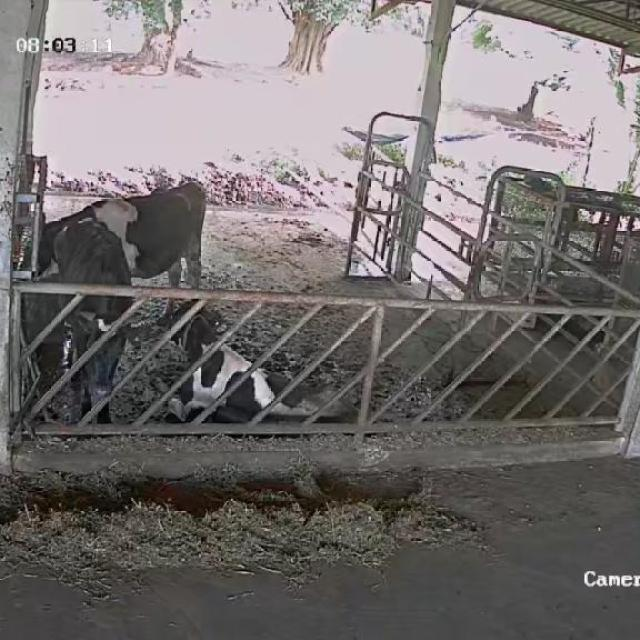lying down: (159, 296, 361, 432)
standing: (20, 180, 210, 314), (50, 215, 137, 432)
